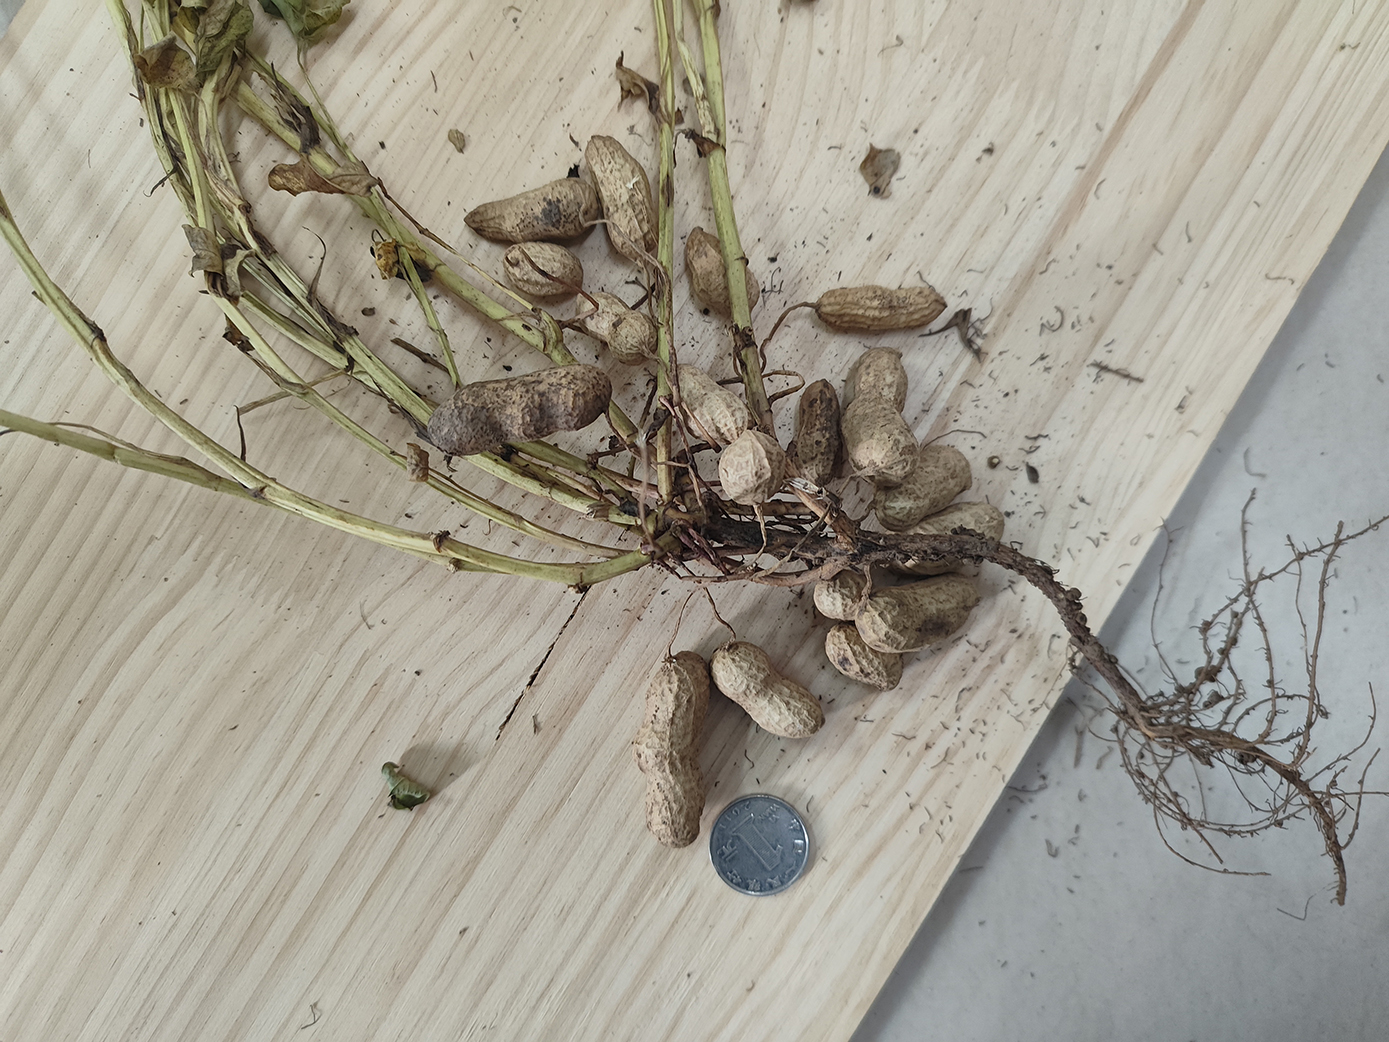h: (632, 651, 708, 849), (714, 642, 823, 737), (845, 348, 919, 485), (856, 576, 985, 652), (587, 135, 659, 260), (463, 180, 600, 244), (873, 445, 975, 528), (890, 505, 1005, 574), (683, 225, 763, 316), (672, 363, 746, 445), (815, 287, 949, 332), (575, 293, 658, 364), (720, 430, 786, 510), (827, 627, 902, 688), (798, 378, 841, 483), (503, 245, 583, 298), (813, 567, 870, 620)
l: (427, 364, 611, 455)
